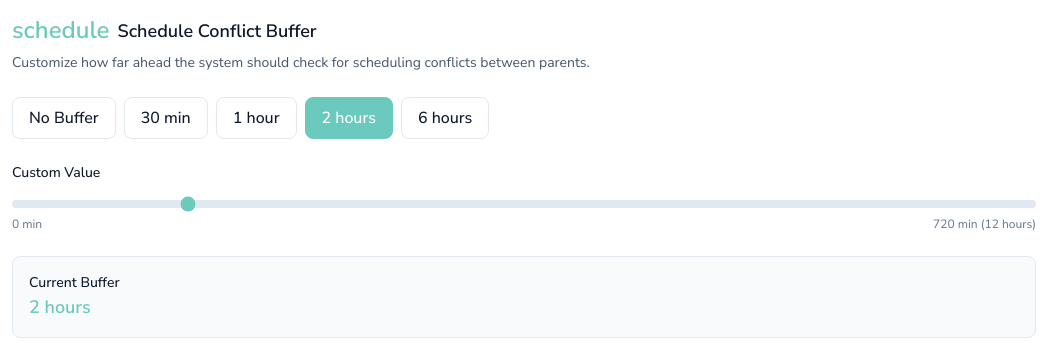
Test case: ConflictWindowSettings › should update display immediately without waiting for API response
// Click preset button
Click the button "1 hour": (256, 118) [216,97,296,139]
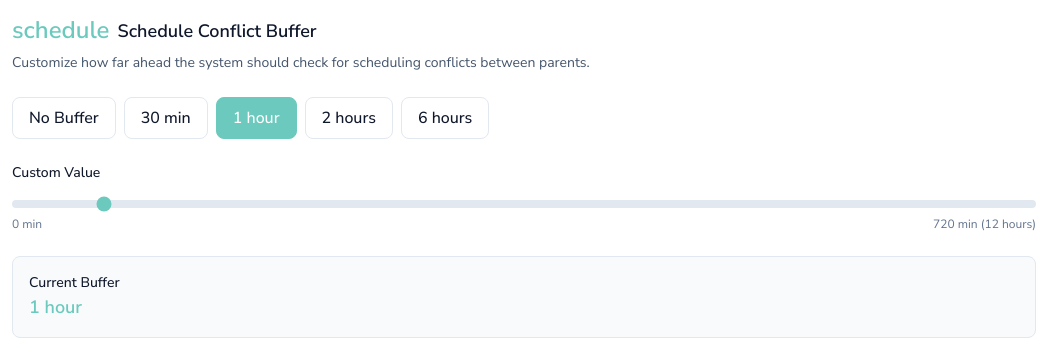
Check: the slider holds "60", box [12,200,1036,208]
